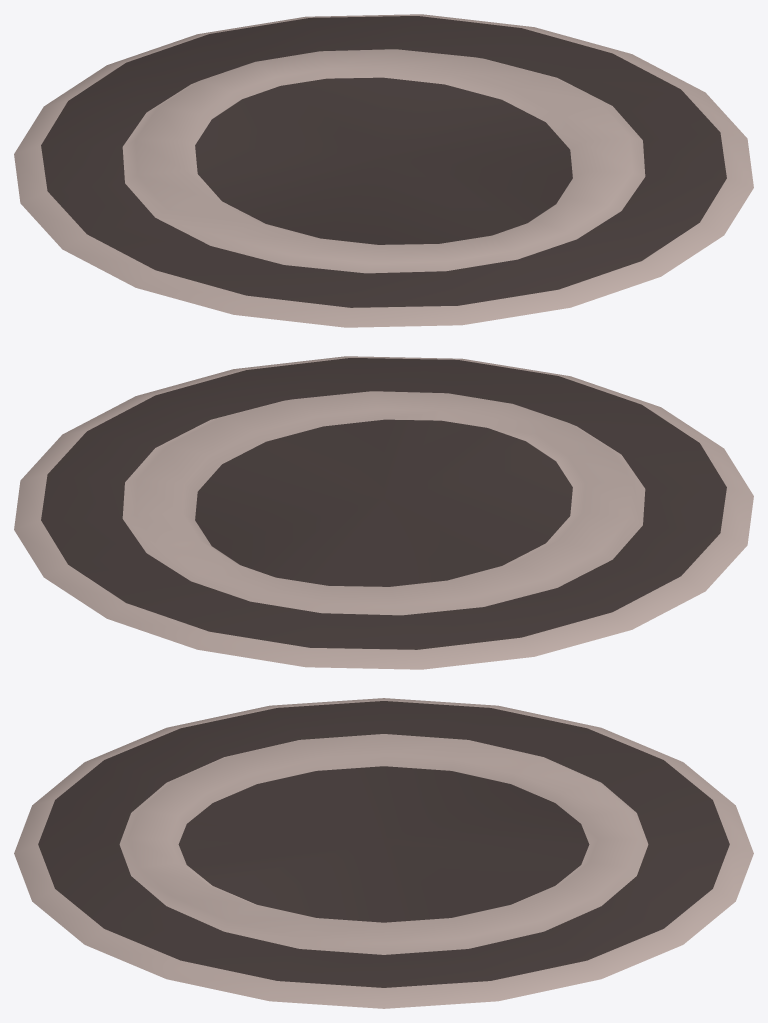
The model's file is carpet_014.fbx.
3 renders of one model, top to bottom at view 1: azimuth 30°, elevation 25°; view 2: azimuth 150°, elevation 25°; view 3: azimuth 270°, elevation 25°, orthographic.
Visible parts, largest first — view 1: carpet_014; view 2: carpet_014; view 3: carpet_014.
Boxes of the visible parts, <box> form: carpet_014: <box>14,14,753,327</box>; carpet_014: <box>14,356,753,669</box>; carpet_014: <box>14,698,753,1008</box>.
Size of the model in its own units: 245 by 247 by 5.33.
